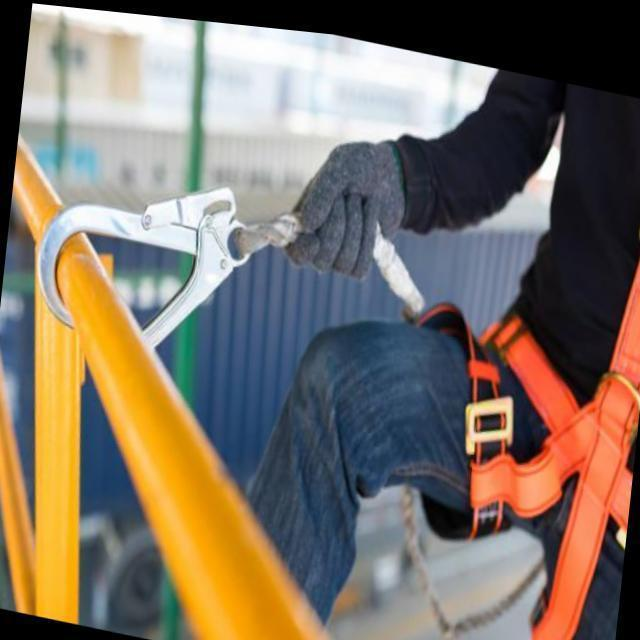Harness: (471, 269, 640, 640)
